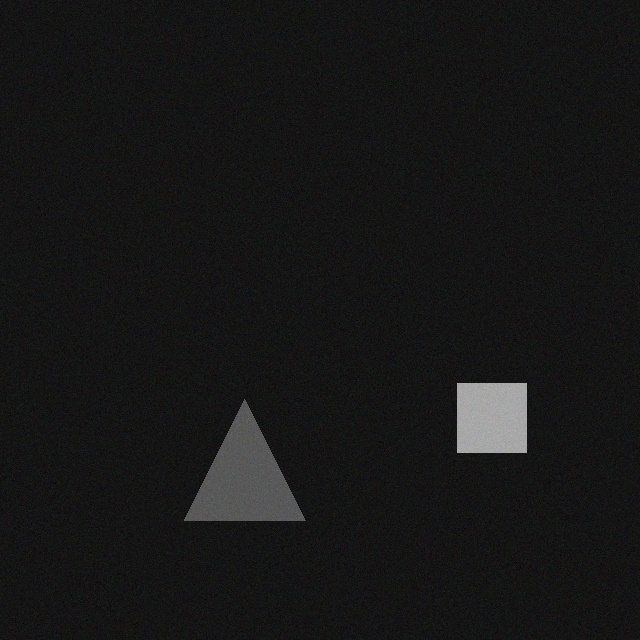square: (472, 390, 541, 459)
triangle: (199, 406, 320, 527)
